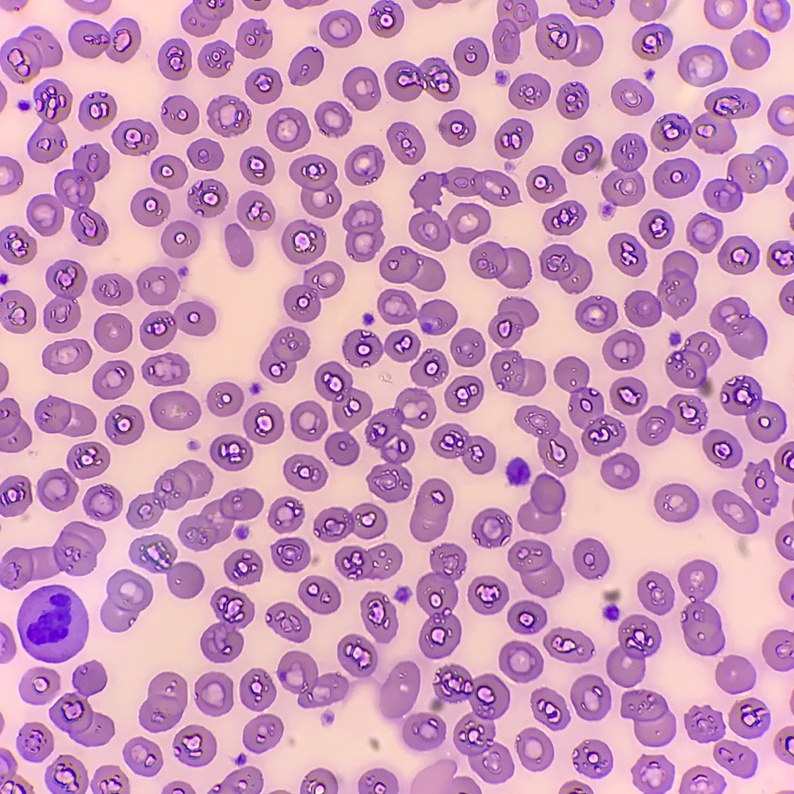RBC: (430, 665, 513, 782), (637, 332, 719, 445), (27, 144, 109, 245), (366, 388, 435, 502), (492, 0, 602, 66), (651, 88, 758, 153), (554, 357, 625, 454), (0, 521, 104, 587), (379, 661, 445, 750), (127, 461, 212, 528), (416, 543, 465, 658), (17, 585, 88, 662), (704, 146, 786, 211), (625, 251, 696, 326), (50, 662, 114, 745), (161, 179, 227, 258), (179, 488, 262, 550), (37, 442, 109, 510), (130, 535, 203, 598), (411, 167, 519, 209), (678, 560, 724, 655), (720, 376, 785, 442), (516, 405, 577, 475), (277, 651, 348, 707), (201, 588, 254, 662), (606, 614, 660, 686), (409, 203, 490, 250), (315, 362, 371, 428), (27, 79, 71, 162), (602, 133, 646, 215), (140, 301, 215, 349), (284, 261, 343, 321), (1, 27, 62, 83), (710, 297, 766, 357), (508, 539, 563, 597), (290, 155, 341, 217), (432, 423, 495, 473), (101, 570, 152, 631), (385, 58, 459, 100), (68, 18, 140, 61), (44, 260, 86, 332), (621, 690, 675, 746), (380, 246, 444, 291), (139, 672, 187, 731), (518, 474, 565, 533), (470, 242, 531, 287), (314, 503, 386, 541), (260, 327, 309, 382), (410, 479, 452, 541), (540, 244, 591, 292), (491, 350, 545, 395), (343, 201, 383, 261), (489, 297, 537, 346), (35, 397, 95, 436), (335, 544, 401, 579), (678, 45, 726, 86), (150, 391, 200, 429), (282, 220, 325, 264), (713, 490, 757, 533), (181, 0, 232, 36), (267, 108, 309, 151), (361, 592, 397, 642), (653, 158, 699, 197), (571, 674, 610, 720), (743, 461, 777, 513), (499, 641, 542, 682), (208, 95, 250, 136), (174, 725, 216, 766), (266, 602, 309, 642), (337, 635, 377, 678), (544, 628, 594, 662), (0, 398, 31, 452), (243, 402, 283, 443), (43, 339, 91, 373), (654, 484, 698, 521), (113, 119, 158, 155), (603, 330, 644, 369), (608, 233, 646, 275), (45, 755, 87, 793), (343, 67, 380, 110), (195, 672, 232, 715), (93, 360, 133, 399), (531, 688, 569, 729), (387, 122, 424, 164), (562, 136, 604, 173), (637, 572, 674, 614), (516, 728, 553, 770), (702, 429, 741, 468), (345, 145, 383, 185), (718, 236, 758, 274), (471, 508, 511, 546), (468, 576, 508, 614), (715, 655, 755, 693), (633, 755, 673, 793), (137, 267, 178, 304), (299, 576, 340, 613), (210, 434, 252, 470), (284, 454, 326, 490), (0, 290, 35, 333), (731, 30, 769, 69), (343, 329, 382, 367), (105, 405, 143, 444), (729, 698, 767, 737), (320, 10, 360, 47), (19, 667, 59, 704), (611, 79, 652, 115), (575, 296, 616, 332), (142, 353, 188, 385), (240, 668, 275, 710), (714, 740, 756, 775), (131, 188, 169, 226), (574, 739, 612, 777), (495, 119, 532, 158), (290, 401, 327, 440), (243, 714, 282, 751), (543, 200, 585, 234), (161, 95, 198, 133), (237, 191, 274, 229), (94, 313, 131, 351), (83, 484, 122, 520), (509, 74, 549, 109), (573, 538, 608, 578), (684, 707, 724, 742), (79, 92, 116, 129), (610, 377, 647, 414), (124, 738, 161, 775), (527, 166, 565, 202), (0, 226, 36, 264), (445, 376, 483, 412), (632, 24, 671, 59), (639, 209, 674, 248), (210, 767, 262, 793), (411, 349, 448, 385), (236, 20, 271, 58), (687, 214, 722, 252), (601, 453, 639, 488), (224, 549, 262, 584), (158, 39, 191, 79), (289, 47, 323, 85), (378, 289, 416, 323), (418, 300, 456, 334), (271, 537, 309, 571), (507, 600, 546, 633), (198, 41, 233, 77), (245, 68, 281, 103), (315, 101, 351, 136), (439, 110, 475, 145), (454, 38, 488, 75), (240, 147, 274, 184), (19, 723, 53, 760), (451, 328, 484, 366), (0, 476, 31, 516), (762, 630, 793, 670), (207, 382, 243, 416), (704, 0, 746, 29), (224, 224, 253, 266), (93, 274, 132, 305), (369, 1, 403, 36), (269, 497, 303, 532), (151, 155, 187, 188), (680, 766, 723, 793), (557, 82, 588, 118), (325, 432, 358, 465), (91, 765, 129, 793), (754, 0, 788, 31), (188, 139, 222, 170), (385, 330, 419, 361), (768, 95, 793, 135), (358, 768, 397, 793), (300, 769, 337, 793), (767, 241, 793, 274), (0, 156, 22, 194), (775, 441, 793, 482), (774, 726, 793, 763), (630, 0, 665, 20), (569, 0, 611, 16), (775, 522, 793, 559), (506, 458, 529, 485), (442, 777, 480, 793), (68, 0, 110, 13), (779, 569, 793, 601), (780, 281, 793, 313), (560, 781, 591, 793), (2, 636, 15, 660), (1, 771, 21, 785), (603, 604, 619, 620), (244, 0, 269, 10), (286, 0, 321, 7), (174, 781, 193, 793), (0, 0, 25, 9), (396, 586, 409, 601), (496, 70, 509, 84), (235, 525, 248, 538), (415, 0, 436, 8), (0, 365, 7, 389), (604, 591, 619, 602), (0, 86, 6, 106), (670, 332, 680, 343), (446, 761, 455, 772), (19, 101, 29, 110), (787, 183, 793, 198), (0, 623, 8, 634), (363, 314, 372, 323), (179, 267, 187, 275), (251, 384, 259, 392), (24, 786, 32, 793), (0, 275, 6, 284), (163, 787, 172, 793)
